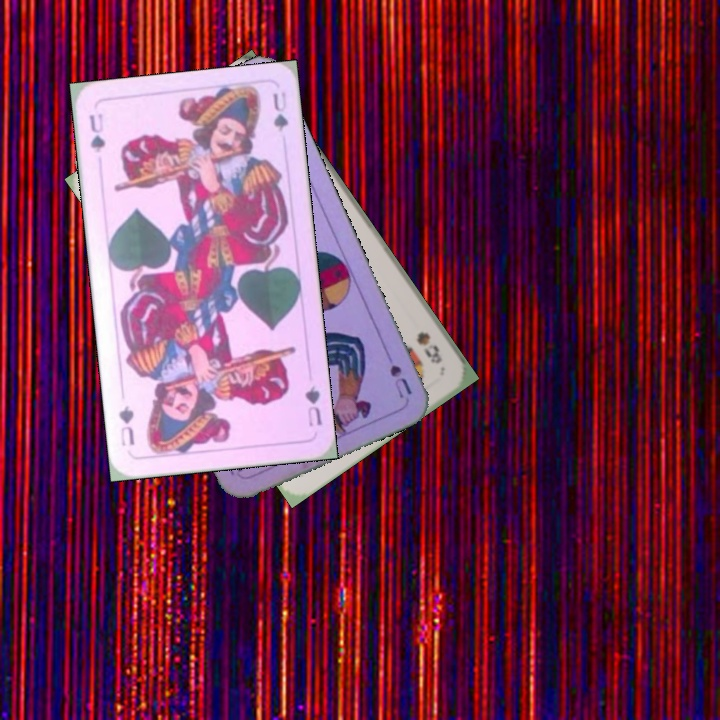GU: (300, 381, 325, 429), (85, 109, 108, 155)
S8: (412, 327, 445, 367)
SU: (379, 344, 415, 402)
